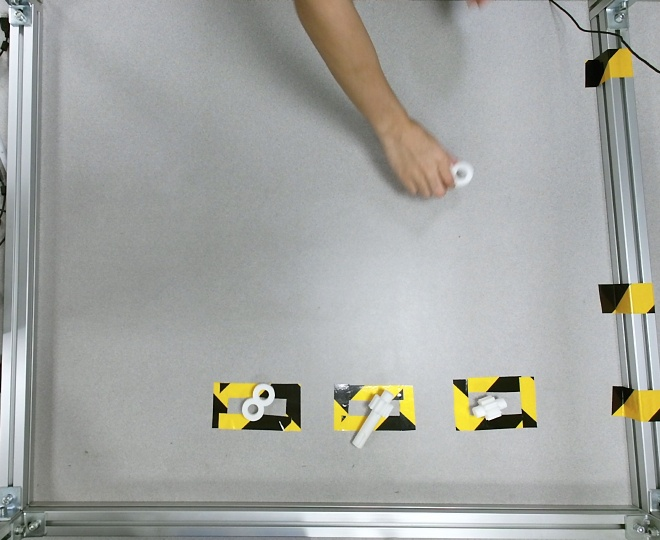stage_1: (449, 160, 475, 187)
